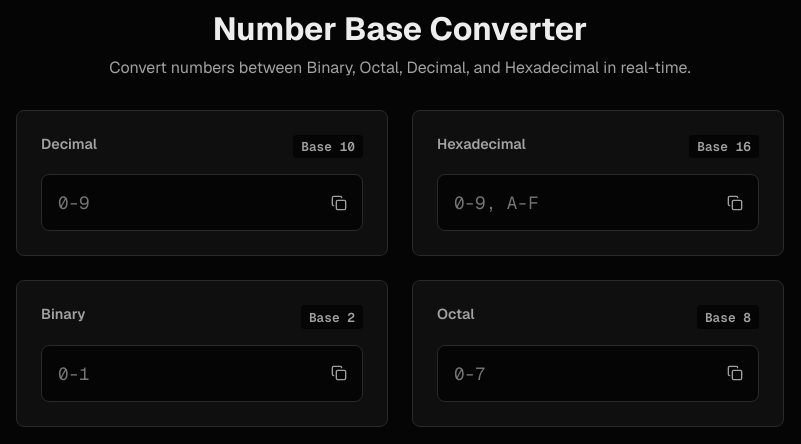
NumberBaseTool › converts Binary to other bases
This screenshot has width=801, height=444.
Type "101" into the field with placeholder "0-1" at (202,373), box [41, 345, 363, 402]
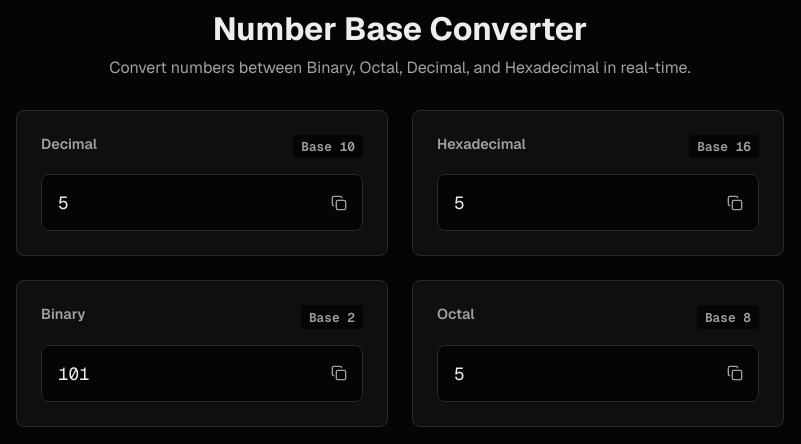
Now the field with placeholder "0-9" below "Base 10" holds "5", box [41, 174, 363, 231]
Now the field with placeholder "0-9, A-F" below "Base 16" holds "5", box [437, 174, 759, 231]
Now the field with placeholder "0-7" below "Base 8" holds "5", box [437, 345, 759, 402]
